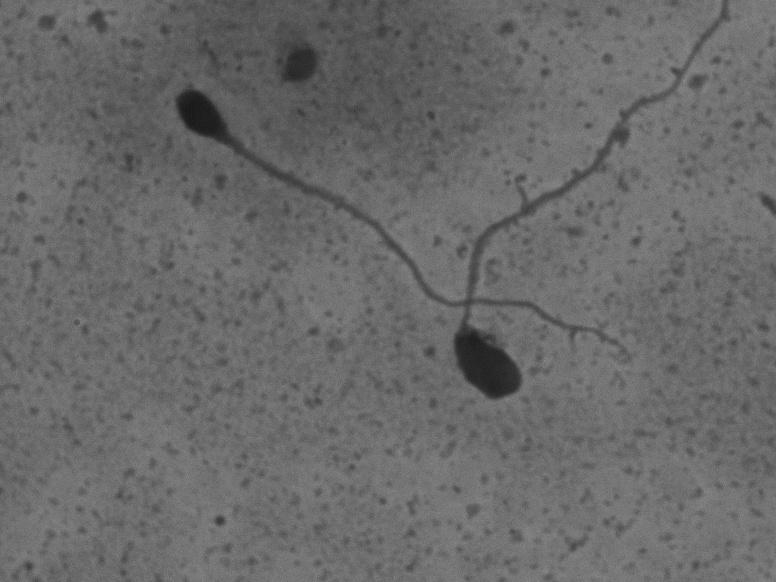Abnormal: (160, 77, 647, 371), (437, 15, 720, 415)
